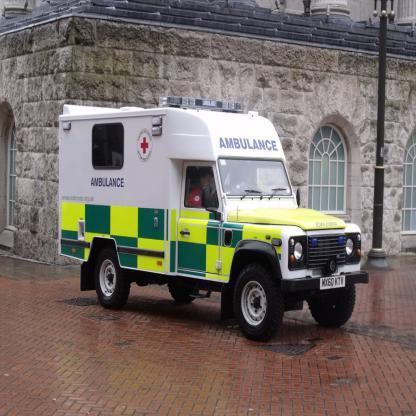Ambulance - v1 Ambulance last generate: (57, 94, 369, 340)
